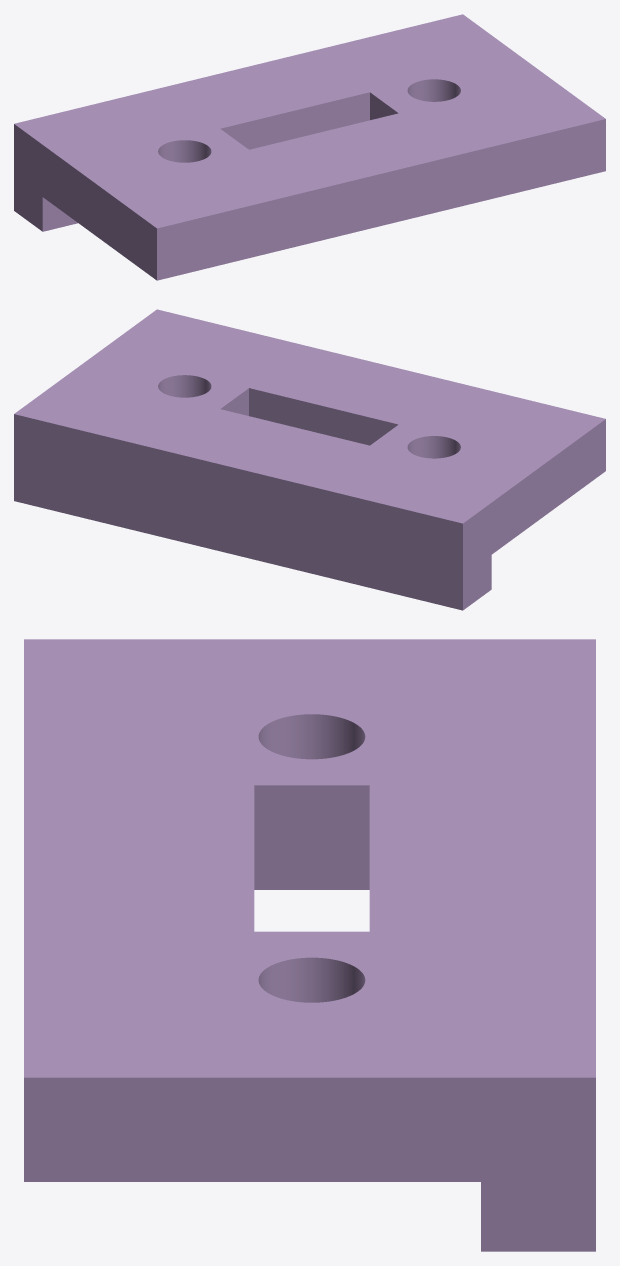
The model's file is usbc_coupon.glb.
3 renders of one model, top to bottom at view 1: azimuth 30°, elevation 25°; view 2: azimuth 150°, elevation 25°; view 3: azimuth 270°, elevation 25°, orthographic. The views are drawn at different scales.
Visible parts, largest first — view 1: usbc_coupon; view 2: usbc_coupon; view 3: usbc_coupon.
Boxes of the visible parts, bbox=[...] form: usbc_coupon: bbox=[14, 14, 605, 280]; usbc_coupon: bbox=[14, 309, 605, 610]; usbc_coupon: bbox=[24, 639, 595, 1251].
Size of the model in its own units: 27 by 5 by 14.9.
